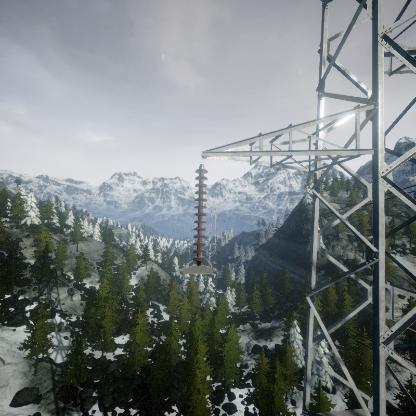insulator: (192, 163, 211, 265)
